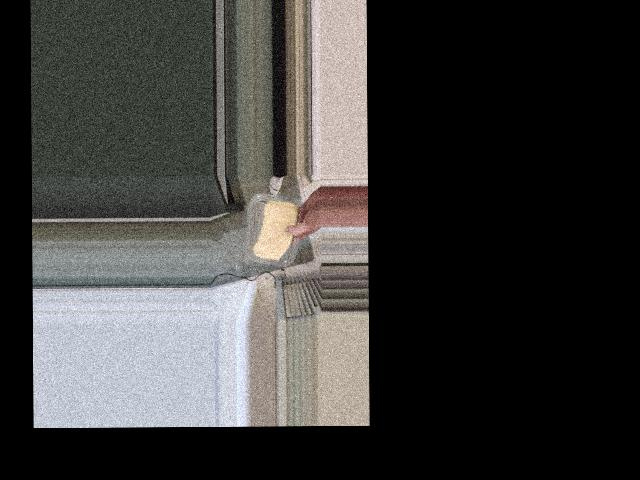cheese: (250, 194, 302, 265)
